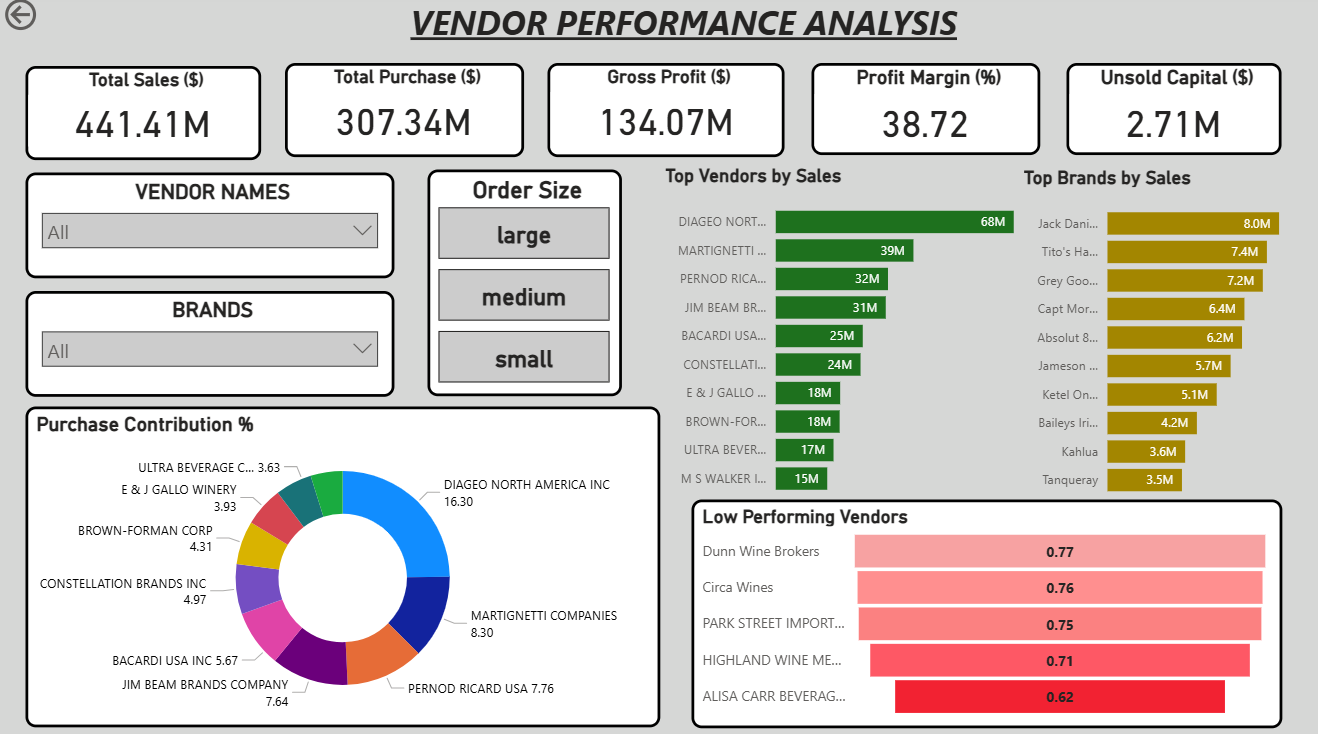

Layout of this report page (visuals, bound fields, positions):
{"tool":"powerbi","page":{"name":"Page 1","canvas":[1280,720],"ordinal":0},"visuals":[{"type":"cardVisual","title":"Total Sales ($)","fields":{"Data":["Sum(vendor_sales_summary.TotalSalesDollars)"]},"box":[24.8,69.6,228.6,91.1],"z":0},{"type":"cardVisual","title":"Total Purchase ($)","fields":{"Data":["Sum(vendor_sales_summary.TotalPurchaseDollars)"]},"box":[276.6,66.3,231.9,91.1],"z":1000},{"type":"cardVisual","title":"Gross Profit ($)","fields":{"Data":["Sum(vendor_sales_summary.GrossProfit)"]},"box":[531.7,66.3,230.3,91.1],"z":2000},{"type":"cardVisual","title":"Profit Margin (%)","fields":{"Data":["Avg(vendor_sales_summary.ProfitMargin)"]},"box":[786.8,66.3,222,89.4],"z":3000},{"type":"cardVisual","title":"Unsold Capital ($)","fields":{"Data":["Sum(vendor_sales_summary.UnsoldCapital)"]},"box":[1035.3,66.3,208.7,89.4],"z":4000},{"type":"donutChart","title":"Purchase Contribution %","fields":{"Y":["Sum(PurchaseContribution.PurchaseContribution%)"],"Category":["PurchaseContribution.VendorName"]},"box":[24.8,400.9,616.2,311.4],"z":5000},{"type":"barChart","title":"Top Vendors by Sales","fields":{"Y":["Sum(vendor_sales_summary.TotalSalesDollars)"],"Category":["vendor_sales_summary.VendorName"]},"box":[641.1,165.6,394.2,331.3],"z":6000},{"type":"barChart","title":"Top Brands by Sales","fields":{"Y":["Sum(vendor_sales_summary.TotalSalesDollars)"],"Category":["vendor_sales_summary.Description"]},"box":[988.5,167.3,291.5,331.3],"z":7000},{"type":"funnel","title":"Low Performing Vendors","fields":{"Category":["LowTurnoverVendor.VendorName"],"Y":["Avg(LowTurnoverVendor.AvgStockTurnOver)"]},"box":[670.9,490.3,573.1,222],"z":8000},{"type":"slicer","title":"BRANDS","fields":{"Values":["vendor_sales_summary.Description"]},"box":[24.8,288.2,357.8,102.7],"z":9000},{"type":"slicer","title":"VENDOR NAMES","fields":{"Values":["vendor_sales_summary.VendorName"]},"box":[24.8,173.9,357.8,102.7],"z":10000},{"type":"actionButton","box":[0,0,100,40],"z":11000},{"type":"advancedSlicerVisual","title":"Order Size","fields":{"Values":["vendor_sales_summary.OrderSize"]},"box":[414.1,170.6,188.8,220.3],"z":12000},{"type":"textbox","box":[392.6,0,558.2,53],"z":13000}]}

Visuals, with their boxes in screenshot pixels (x1, y1, x2, y2), scaled from the page's 1280x720 canvas onto the 1318x734 screenshot:
"Total Sales ($)" cardVisual: pyautogui.locateOnScreen(26, 71, 261, 164)
"Total Purchase ($)" cardVisual: pyautogui.locateOnScreen(285, 68, 524, 160)
"Gross Profit ($)" cardVisual: pyautogui.locateOnScreen(547, 68, 785, 160)
"Profit Margin (%)" cardVisual: pyautogui.locateOnScreen(810, 68, 1039, 159)
"Unsold Capital ($)" cardVisual: pyautogui.locateOnScreen(1066, 68, 1281, 159)
"Purchase Contribution %" donutChart: pyautogui.locateOnScreen(26, 409, 660, 726)
"Top Vendors by Sales" barChart: pyautogui.locateOnScreen(660, 169, 1066, 507)
"Top Brands by Sales" barChart: pyautogui.locateOnScreen(1018, 171, 1317, 508)
"Low Performing Vendors" funnel: pyautogui.locateOnScreen(691, 500, 1281, 726)
"BRANDS" slicer: pyautogui.locateOnScreen(26, 294, 394, 399)
"VENDOR NAMES" slicer: pyautogui.locateOnScreen(26, 177, 394, 282)
actionButton: pyautogui.locateOnScreen(0, 0, 103, 41)
"Order Size" advancedSlicerVisual: pyautogui.locateOnScreen(426, 174, 621, 399)
textbox: pyautogui.locateOnScreen(404, 0, 979, 54)
